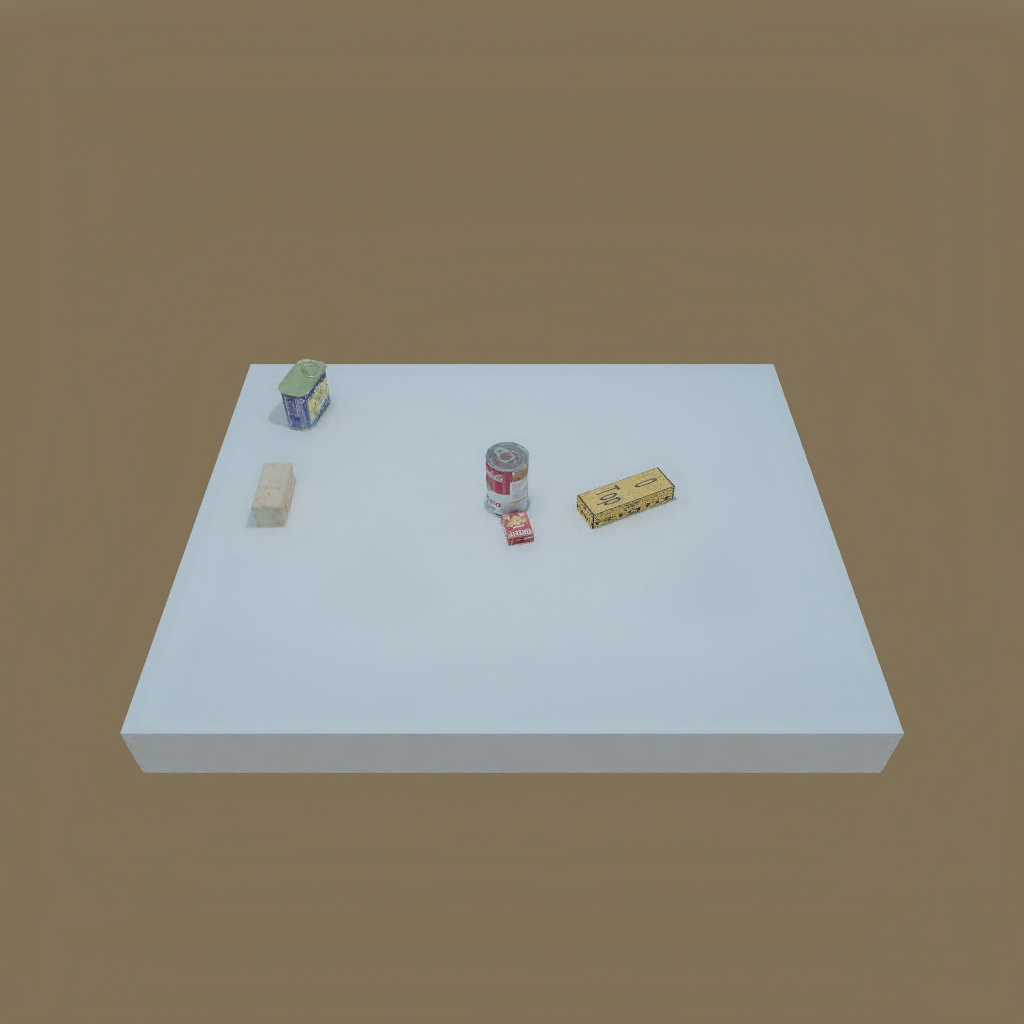jenga: (576, 464, 673, 528)
potted_meat_can: (277, 362, 339, 430)
tomato_soup_can: (483, 434, 534, 519)
wood_block: (249, 465, 300, 523)
